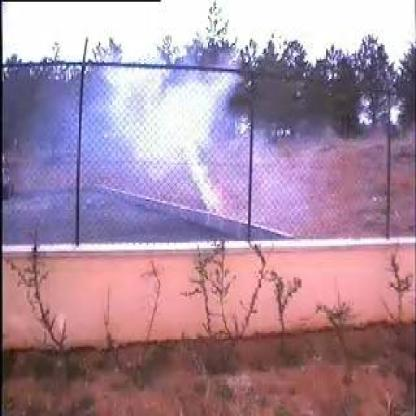-: (80, 60, 275, 240)
